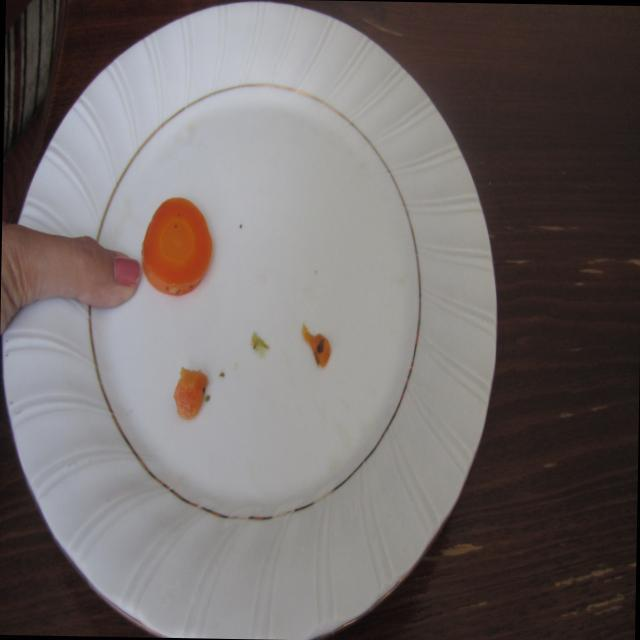Carrot: (140, 192, 217, 303)
Finger: (62, 230, 144, 324)
